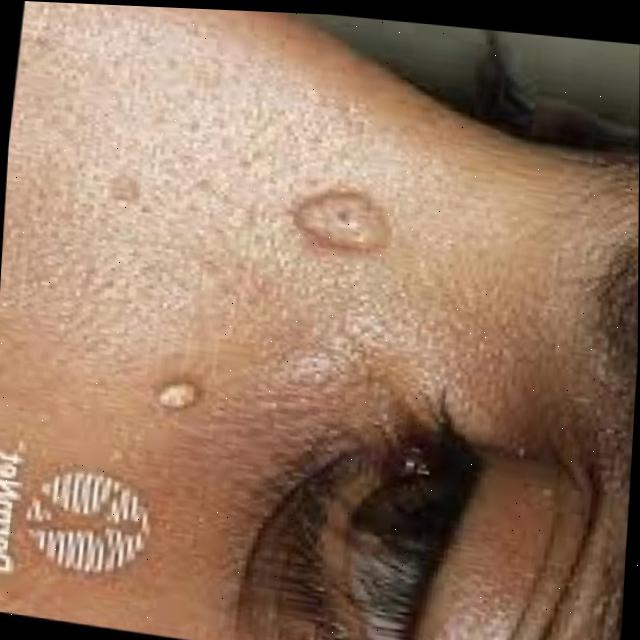Eczema: (290, 180, 388, 292), (147, 369, 208, 432)
